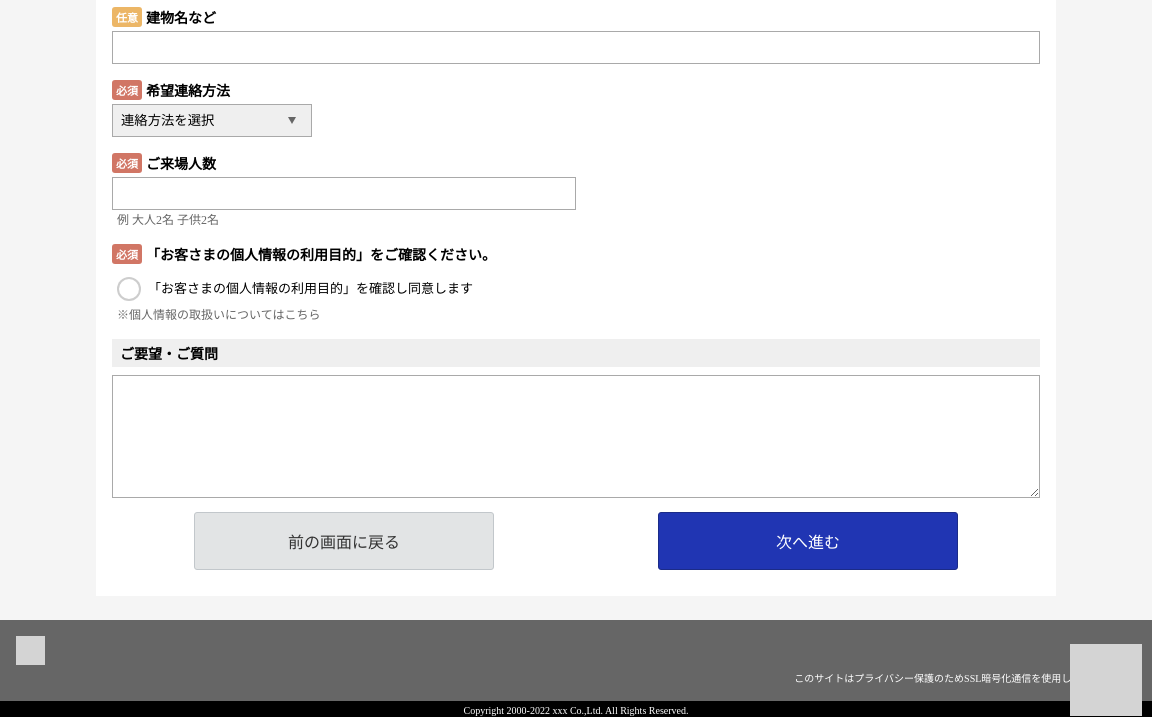
入力バリデーション › 入力せずに次へ進むボタンを押してエラーメッセージが表示されるか
(page scrolled)
What coordinates should you click on to do the following:
click the button "次へ進む"
I would click on:
 (808, 541)
Its box is top-left (658, 512), bottom-right (958, 570).
(page scrolled)
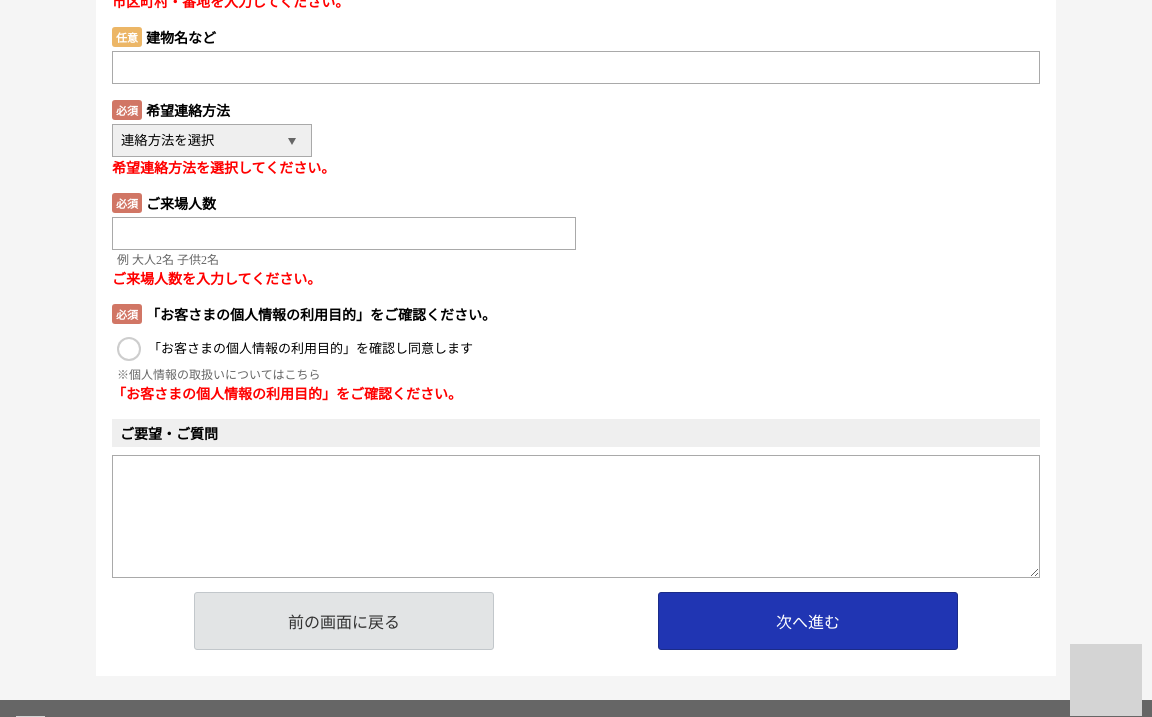
Check: the 1st text "「お客さまの個人情報の利用目的」をご確認ください。" is shown, box top-left (146, 304), bottom-right (496, 324)
Check: the text "希望連絡方法を選択してください。" is shown, box top-left (112, 161), bottom-right (335, 176)
Check: the text "ご来場人数を入力してください。" is shown, box top-left (112, 272), bottom-right (321, 287)
